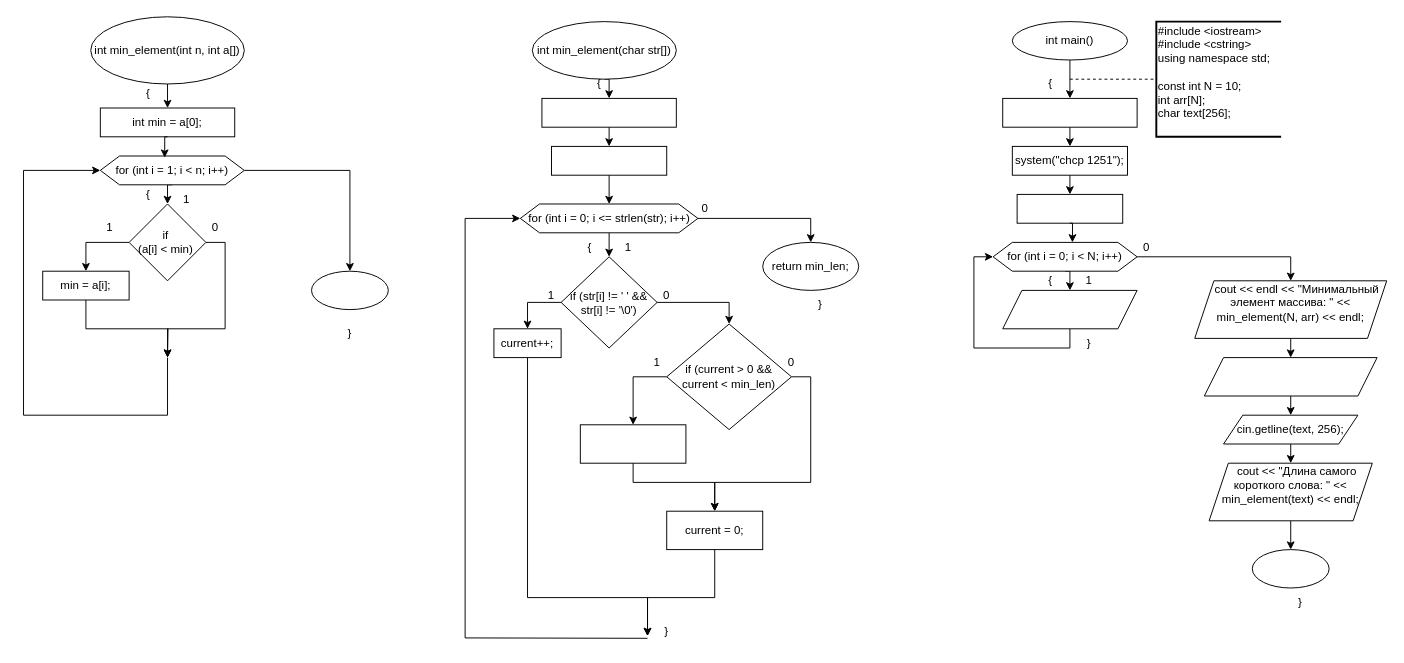
Some shapes in this 1404 by 663 pixel diagram are drawn without their labels. The centre of each missing label's shape, as x and y in pixels:
cout << "Введите строку: ";: pixel 1290 376
cout << arr[i] << " ";: pixel 1069 309
int current = 0;: pixel 609 160
int min_len = strlen(str);: pixel 608 112
min_len = current;: pixel 632 443
return 0;: pixel 1290 568
return min;: pixel 349 290
setlocale(LC_ALL, "ru");: pixel 1069 112
system("cls");: pixel 1069 208
